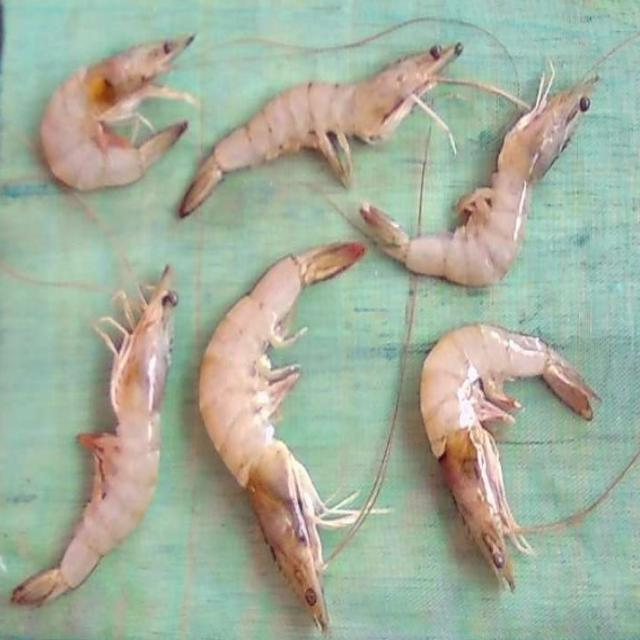shrimp: (198, 243, 364, 631), (12, 266, 176, 607), (177, 41, 463, 216), (358, 77, 597, 286), (421, 325, 600, 589), (39, 34, 193, 189)
